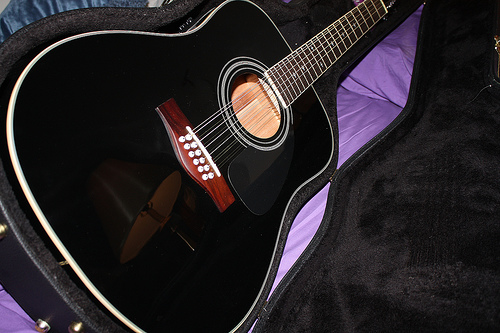guitar: (1, 1, 399, 333)
